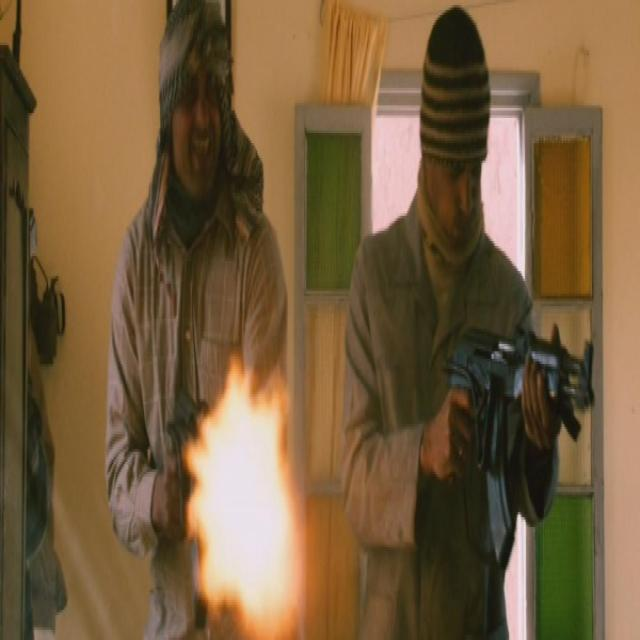rifle: (446, 318, 598, 560)
